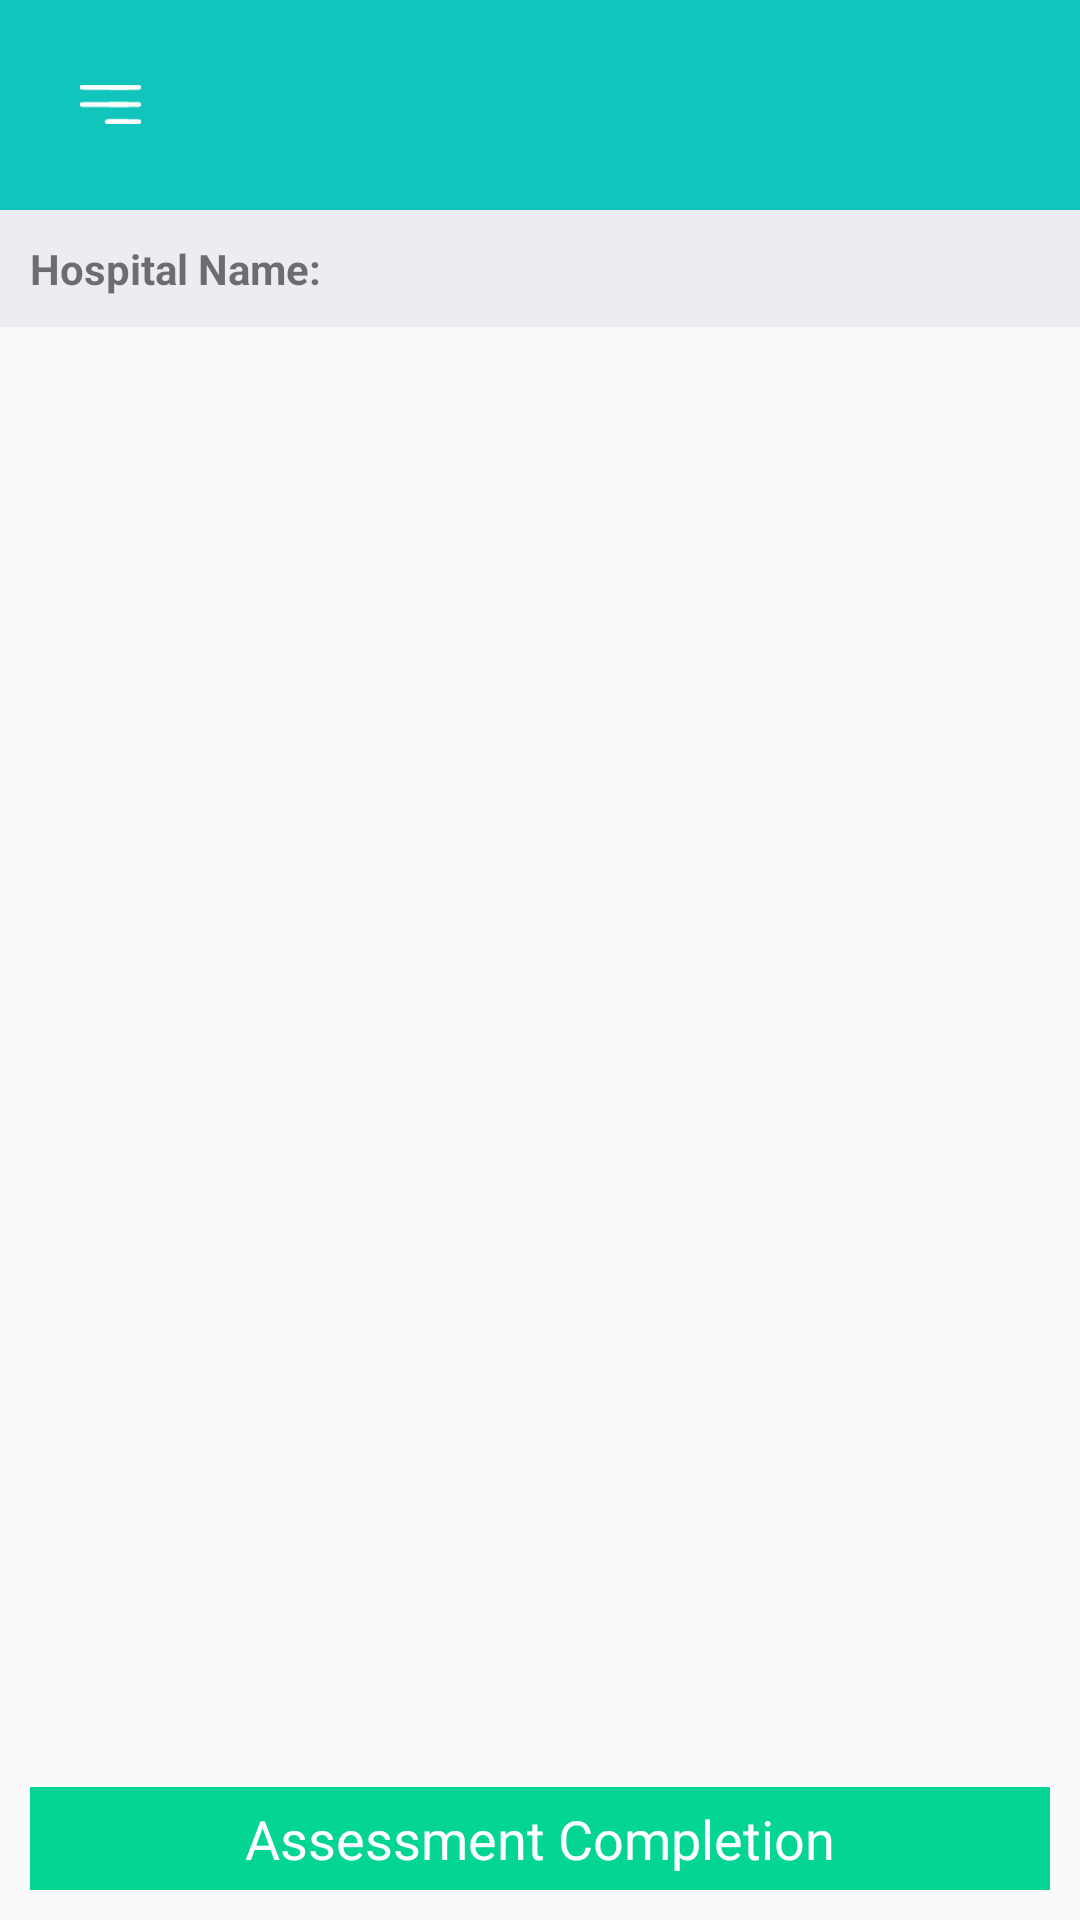

Icons on this 1080px x 1920px Android screen, each with its box as region(x1, y1, x2, y2):
nav: region(80, 85, 141, 124)
